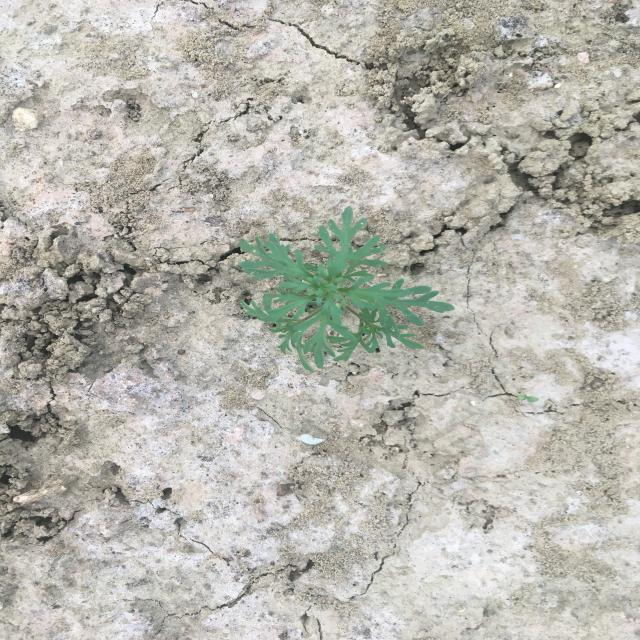Ragweed: (236, 205, 456, 374)
